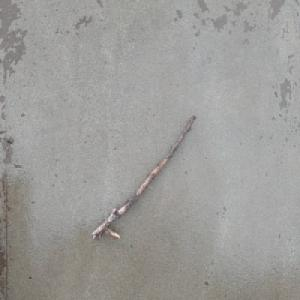Wood: (90, 111, 198, 241)
